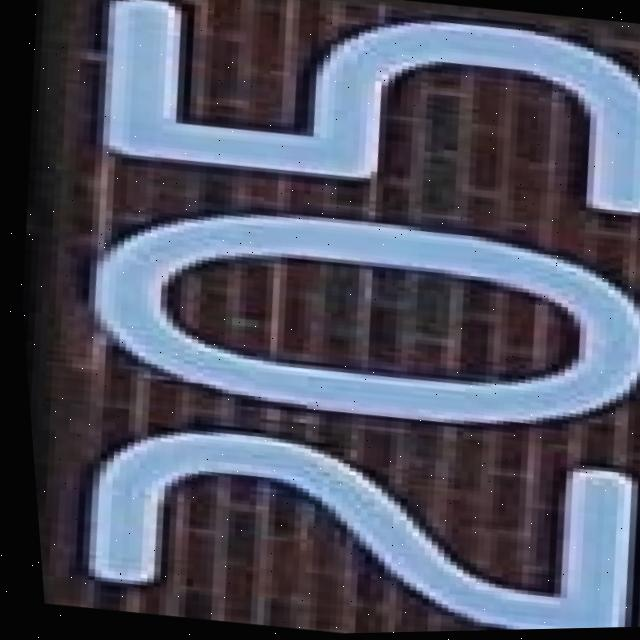character: (68, 174, 640, 466), (57, 391, 640, 639), (68, 0, 640, 241)
